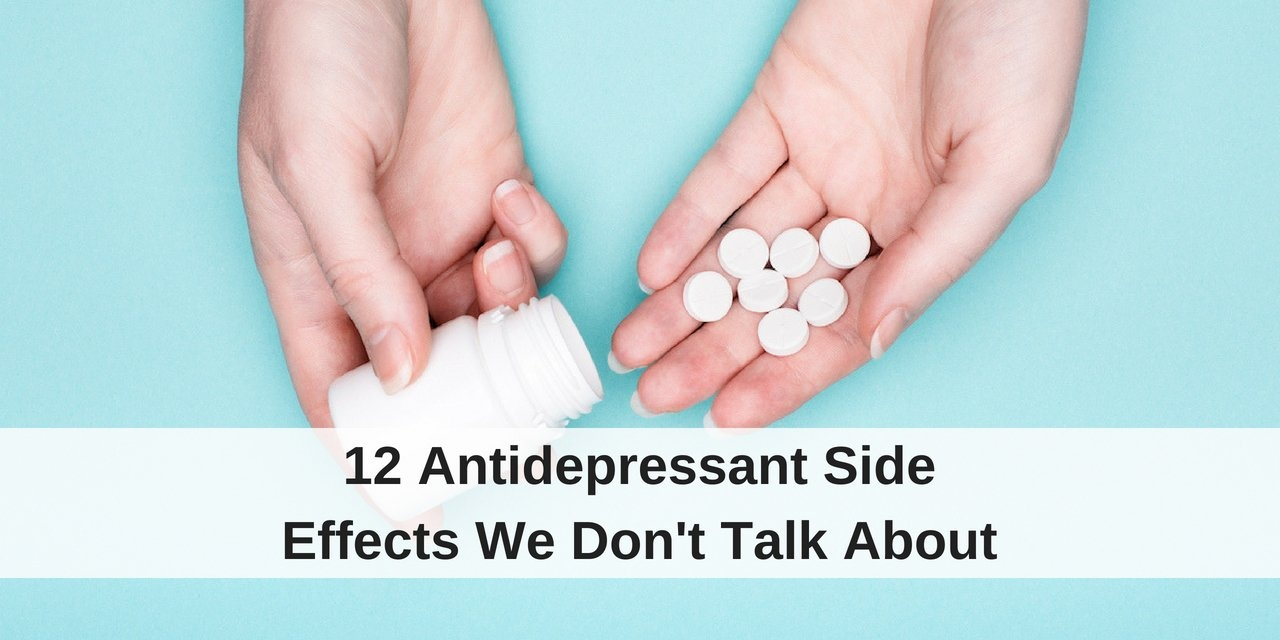pills: (821, 214, 878, 272), (795, 275, 852, 333), (757, 304, 814, 362), (682, 268, 739, 326), (717, 223, 774, 281), (733, 255, 790, 313), (771, 223, 828, 281)
